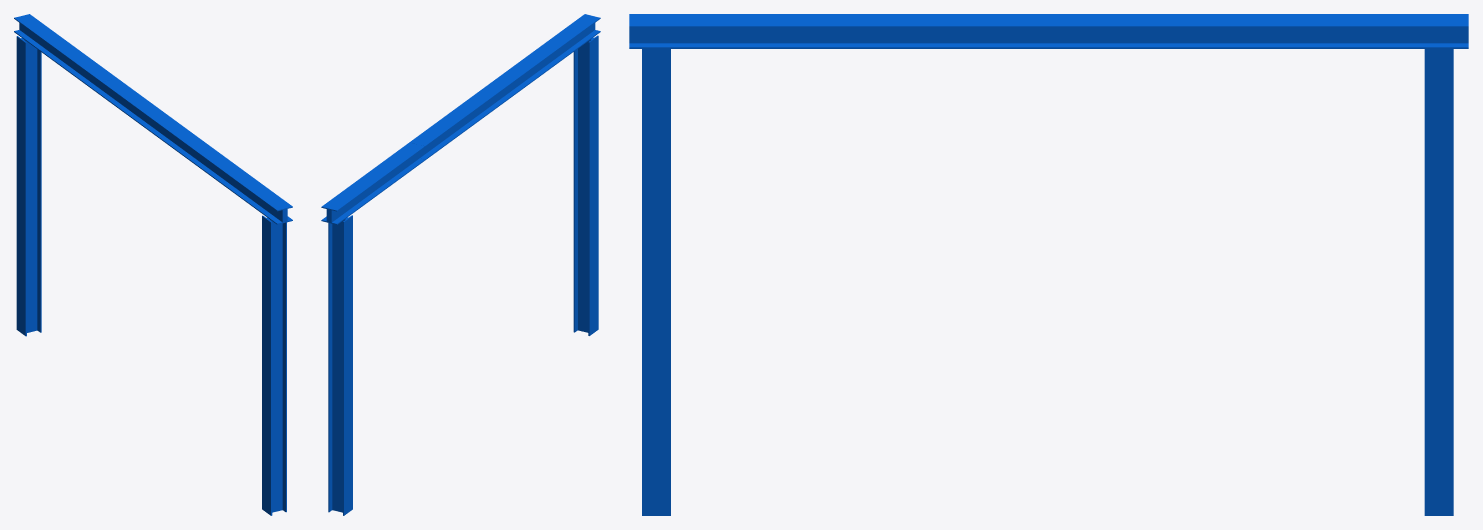
Rendered from Warehouse_05B_Metal_01.fbx.
3 views of the same model, side by side, from view 1: azimuth 30°, elevation 25°; view 2: azimuth 150°, elevation 25°; view 3: azimuth 270°, elevation 25° (orthographic). The views are drawn at different scales.
Visible parts, largest first — view 1: Warehouse_05B_Metal_01; view 2: Warehouse_05B_Metal_01; view 3: Warehouse_05B_Metal_01.
Boxes of the visible parts, x1=… form: Warehouse_05B_Metal_01: x1=14, y1=14, x2=292, y2=515; Warehouse_05B_Metal_01: x1=321, y1=14, x2=600, y2=515; Warehouse_05B_Metal_01: x1=629, y1=14, x2=1468, y2=515.
Bounding box in the file's own units: 31.73 × 525 × 813.
